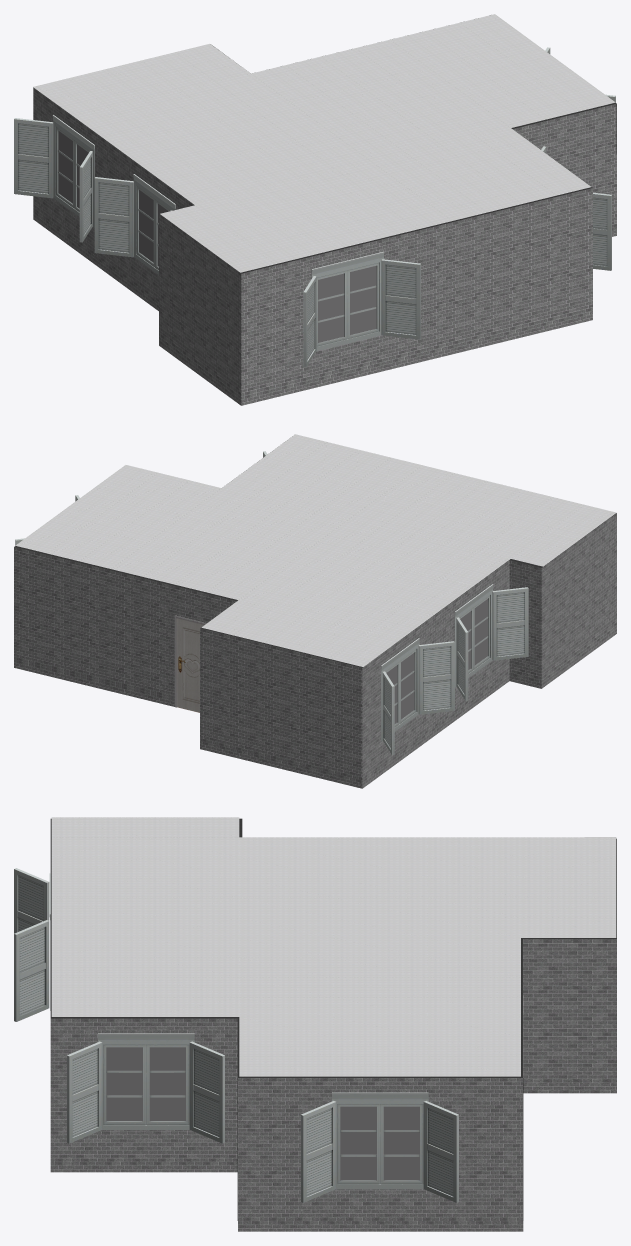
Rendered from house_0100001.FBX.
The picture shows the model from 3 angles, top to bottom: view 1: azimuth 30°, elevation 25°; view 2: azimuth 150°, elevation 25°; view 3: azimuth 270°, elevation 25°; orthographic projection. The views are drawn at different scales.
Visible parts, largest first — view 1: house_0100001_roof_100_00, house_0100001_outwall_100_13, house_0100001_outwall_100_11, house_0100001_outwall_102_04, house_0100001_outwall_103_03, house_0100001_outwall_100_14, house_0100001_outwall_100_17, house_0100001_outwall_105_01, house_0100001_tcx_100_13, house_0100001_outwall_104_03, house_0100001_tcx_100_14, house_0100001_tcx_100_11 (+1 smaller); view 2: house_0100001_roof_100_00, house_0100001_outwall_100_12, house_0100001_outwall_100_19, house_0100001_outwall_100_11, house_0100001_outwall_100_14, house_0100001_outwall_105_01, house_0100001_outwall_103_03, house_0100001_outwall_100_10, house_0100001_outwall_101_03, house_0100001_tcx_100_19, house_0100001_tcx_100_12, house_0100001_tcx_100_14 (+2 smaller); view 3: house_0100001_roof_100_00, house_0100001_outwall_100_16, house_0100001_outwall_101_04, house_0100001_outwall_104_03, house_0100001_outwall_100_15, house_0100001_outwall_100_18, house_0100001_outwall_102_04, house_0100001_tcx_100_16, house_0100001_tcx_100_18, house_0100001_tcx_100_15, house_0100001_outedge_100_19.
Part boxes in pixels (x1,y1,x2,y2): house_0100001_roof_100_00: (33,14,615,272); house_0100001_outwall_100_13: (241,188,592,396); house_0100001_outwall_100_11: (159,214,241,396); house_0100001_outwall_102_04: (303,251,420,367); house_0100001_outwall_103_03: (14,115,94,242); house_0100001_outwall_100_14: (33,88,193,301); house_0100001_outwall_100_17: (513,104,616,227); house_0100001_outwall_105_01: (94,174,175,274); house_0100001_tcx_100_13: (241,311,592,405); house_0100001_outwall_104_03: (541,146,611,270); house_0100001_tcx_100_14: (33,210,158,310); house_0100001_tcx_100_11: (159,337,241,405); house_0100001_roof_100_00: (15,434,616,666); house_0100001_outwall_100_12: (14,547,236,698); house_0100001_outwall_100_19: (200,628,362,780); house_0100001_outwall_100_11: (541,513,616,679); house_0100001_outwall_100_14: (362,560,509,780); house_0100001_outwall_105_01: (454,584,528,700); house_0100001_outwall_103_03: (381,638,454,754); house_0100001_outwall_100_10: (509,560,541,680); house_0100001_outwall_101_03: (174,615,206,712); house_0100001_tcx_100_19: (200,741,362,788); house_0100001_tcx_100_12: (14,659,174,706); house_0100001_tcx_100_14: (362,673,509,788); house_0100001_roof_100_00: (51,817,616,1076); house_0100001_outwall_100_16: (238,1078,522,1220); house_0100001_outwall_101_04: (301,1092,458,1202); house_0100001_outwall_104_03: (67,1033,224,1143); house_0100001_outwall_100_15: (523,939,616,1082); house_0100001_outwall_100_18: (50,1018,237,1161); house_0100001_outwall_102_04: (14,868,50,1021); house_0100001_tcx_100_16: (238,1221,523,1231); house_0100001_tcx_100_18: (50,1161,237,1172); house_0100001_tcx_100_15: (523,1082,616,1093); house_0100001_outedge_100_19: (238,1076,523,1220).
Size of the model in its own units: 1112 by 292 by 1030.
63 materials, 63 textured.
